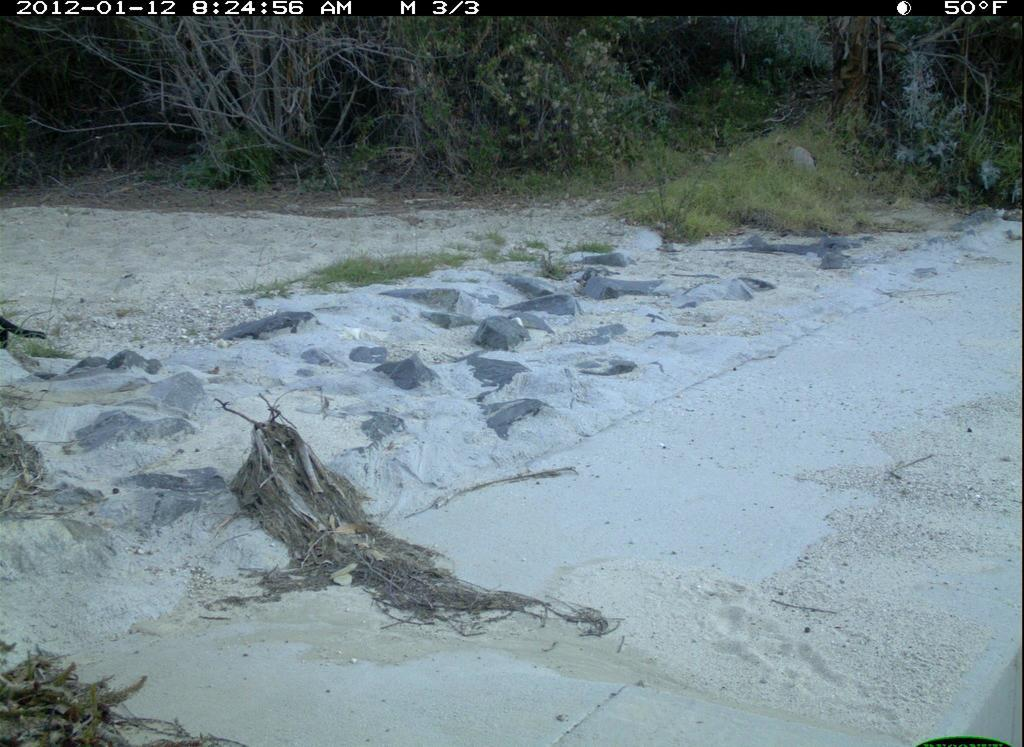cat: (1, 310, 45, 353)
